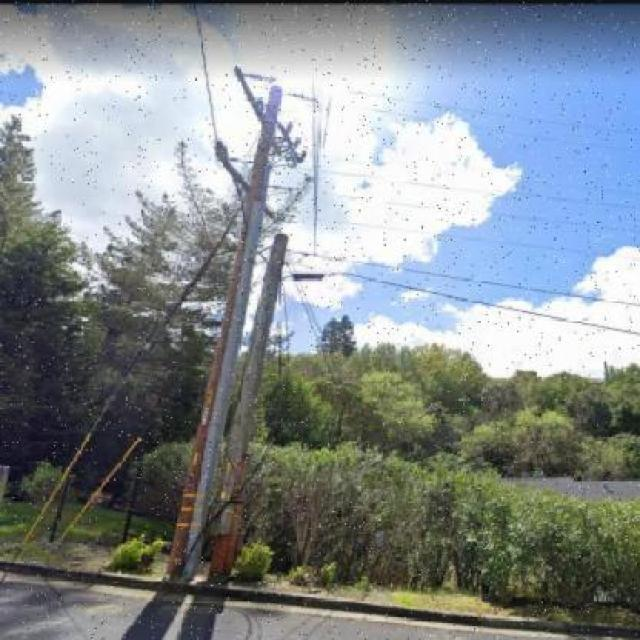pole: (182, 40, 310, 640)
